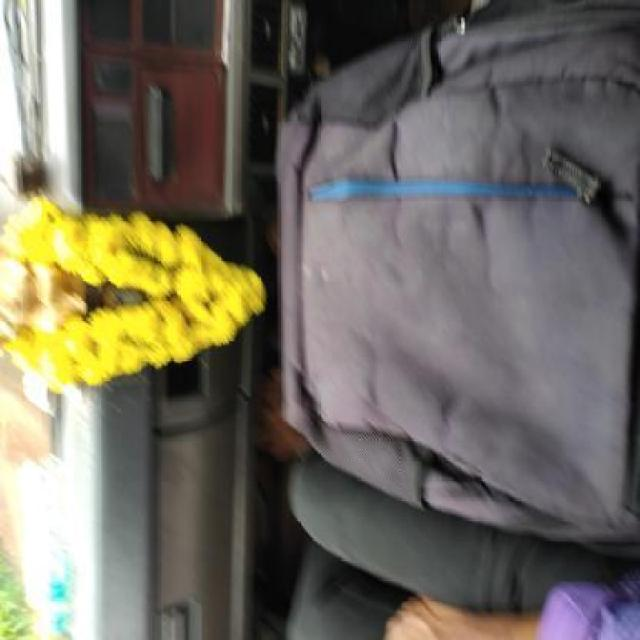backpack: (274, 1, 640, 557)
